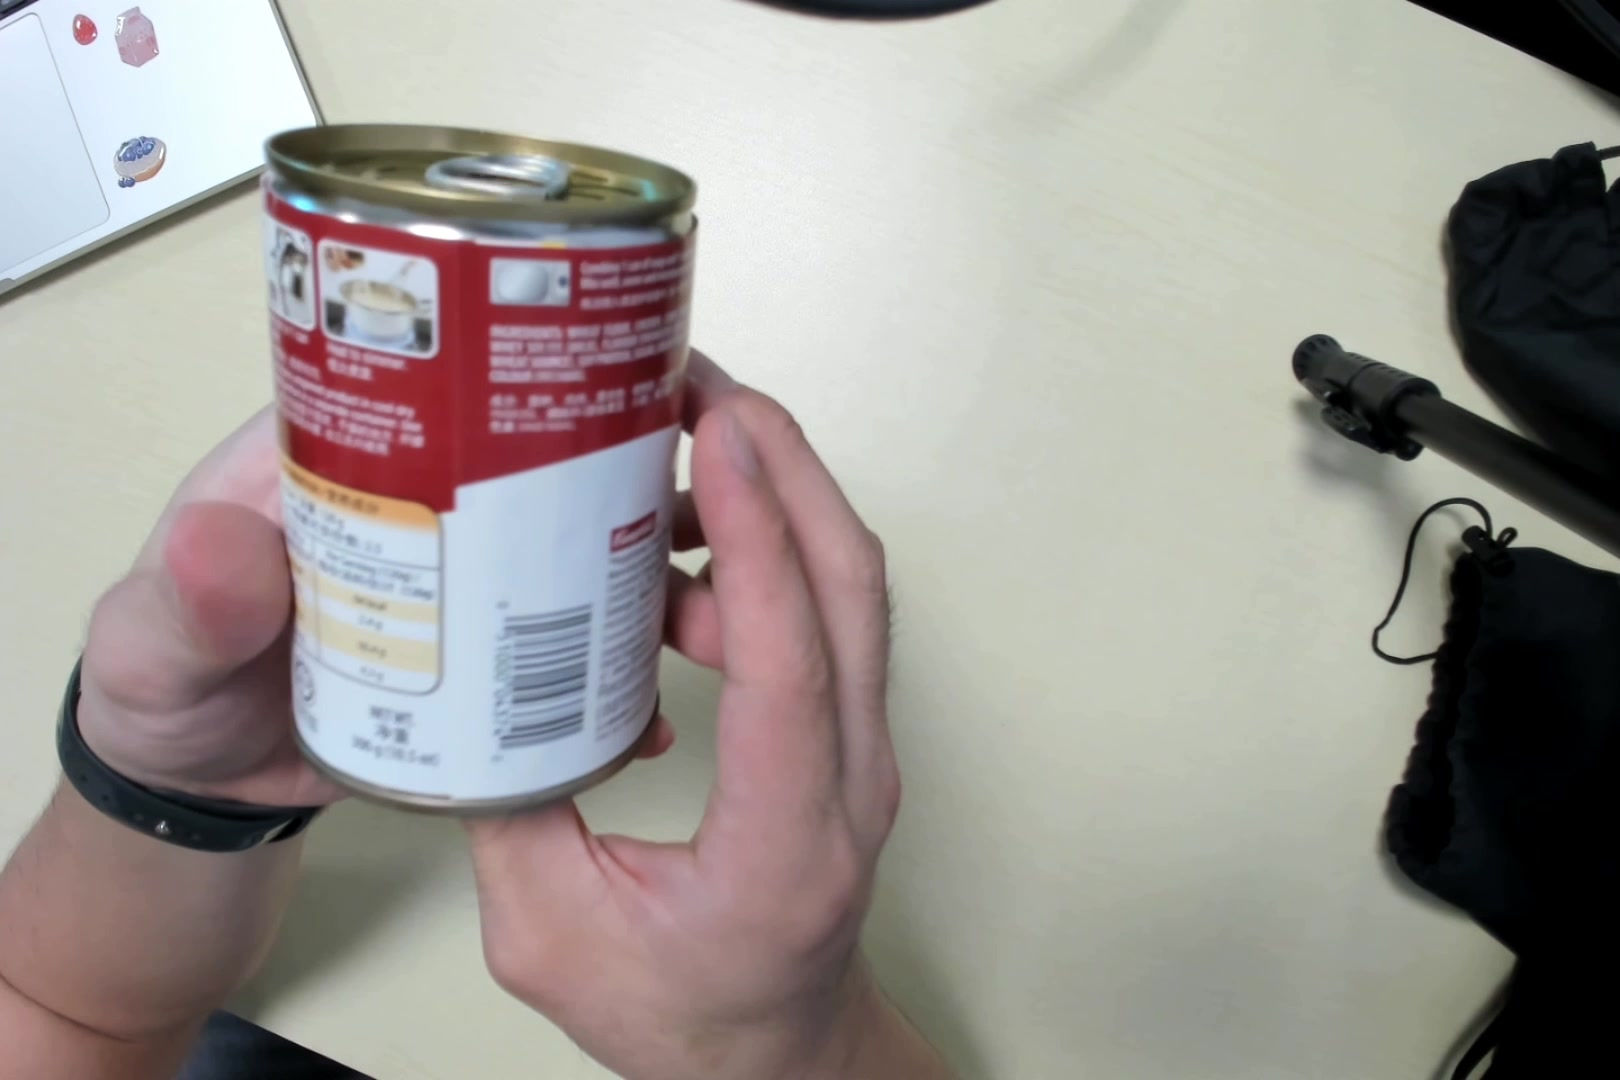CannedSoup_300-399g_Halal_NonHealthy: (254, 141, 700, 814)
